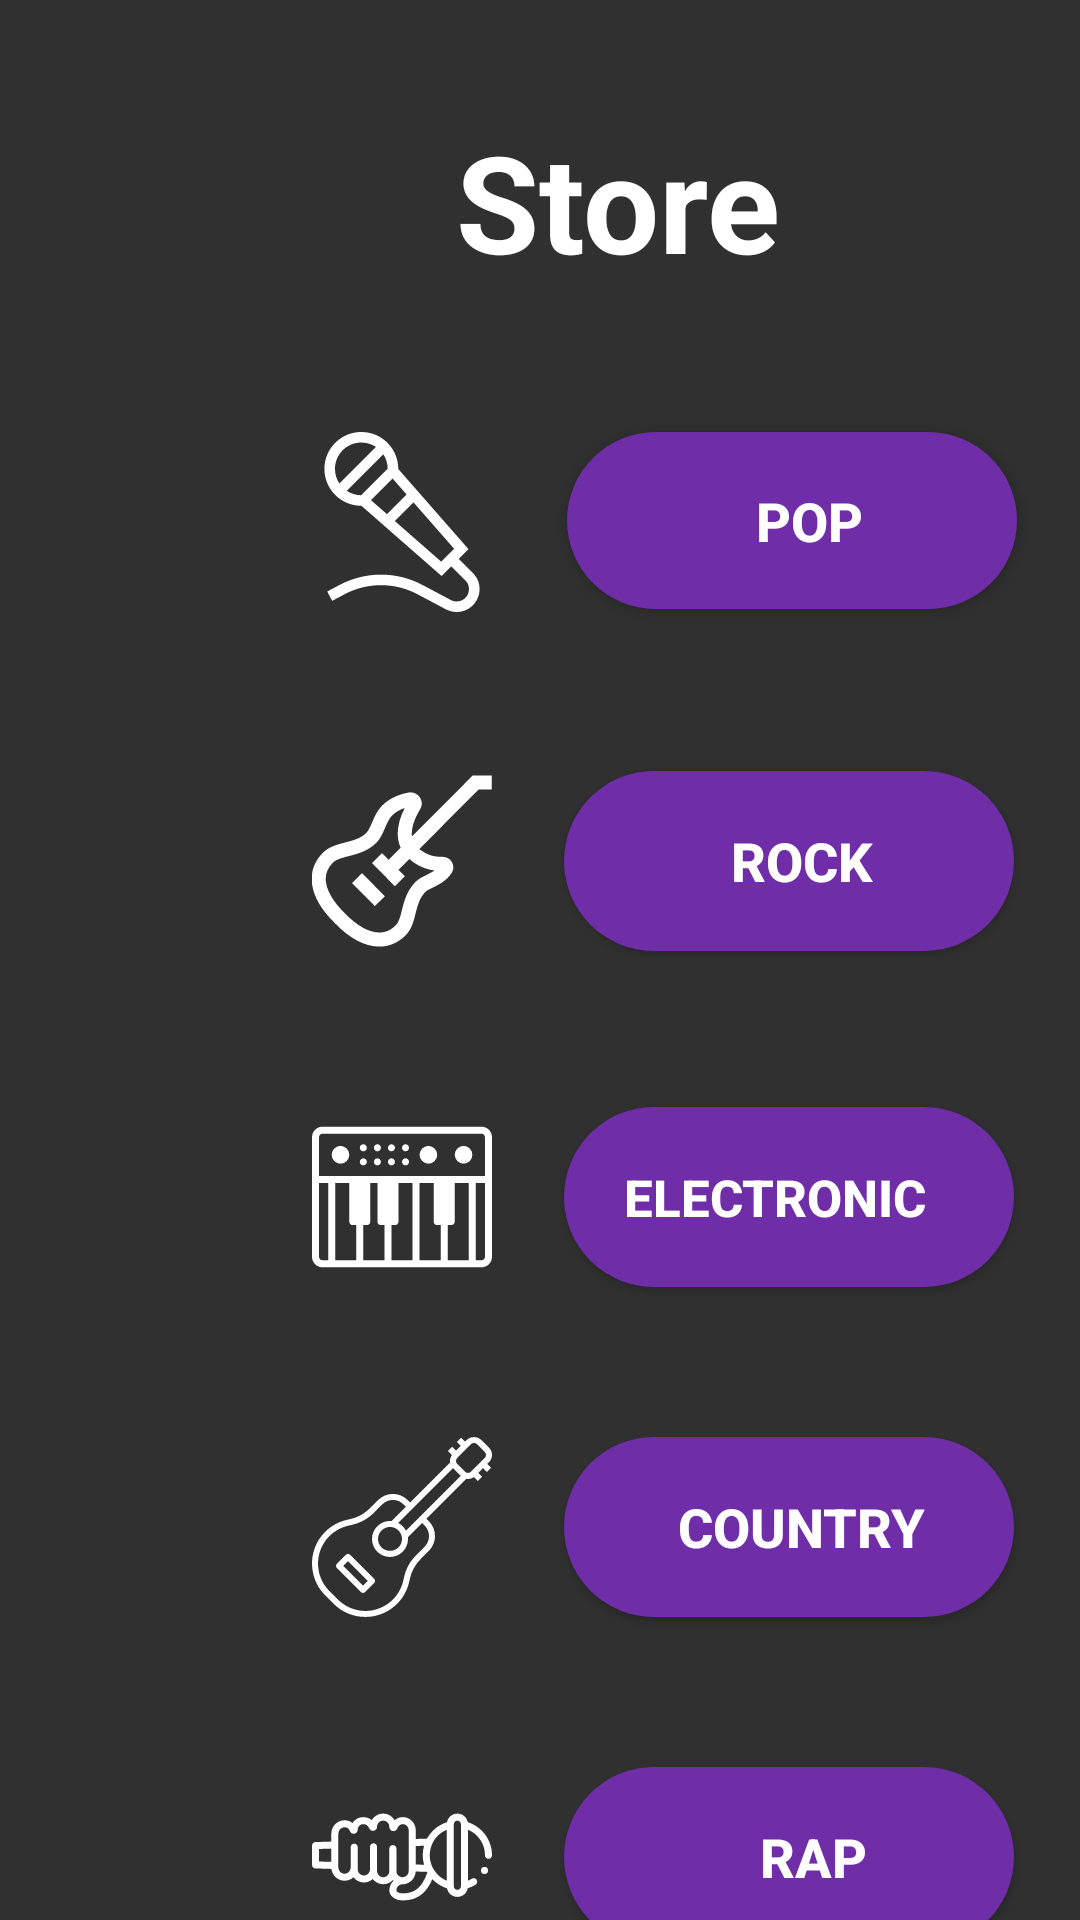

Icons on this 1080×1920 Android screen, each with its box as (x1, y1, x2, y2):
acoustic: (312, 1437, 492, 1617)
keyboard: (312, 1126, 492, 1268)
microphone: (324, 432, 480, 612)
